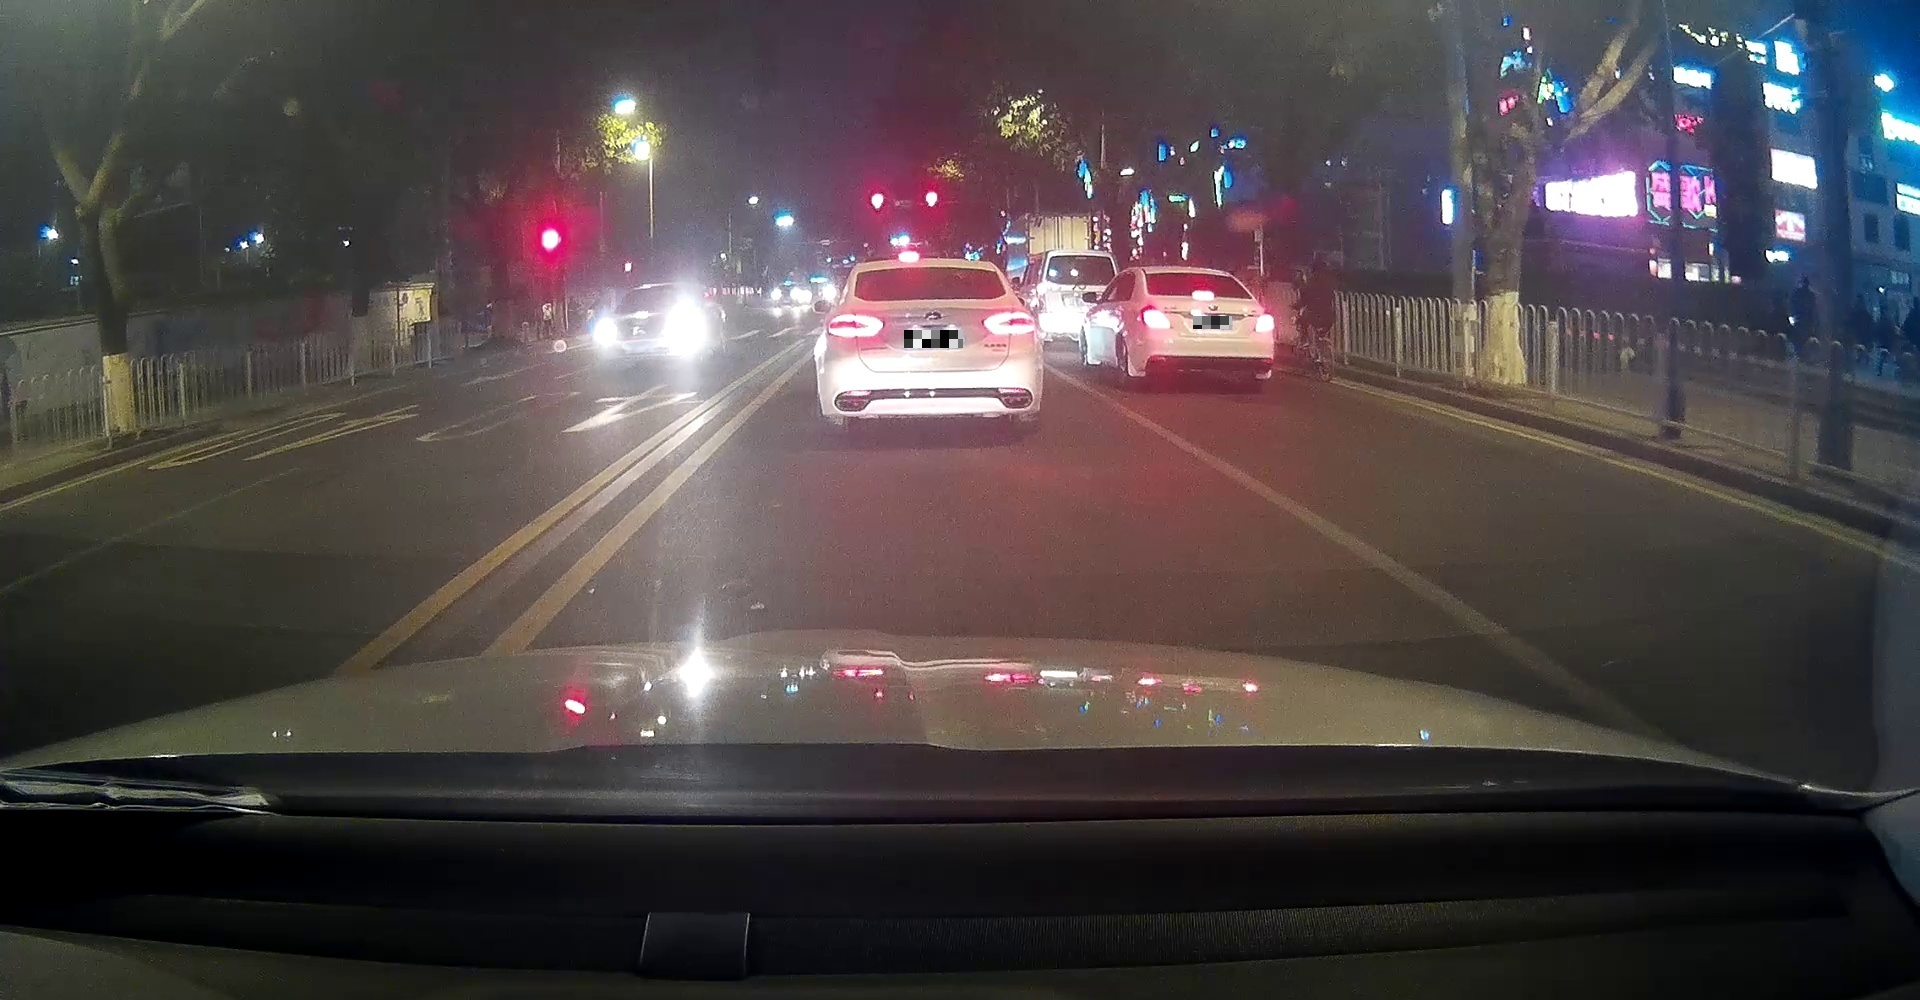L_light: (827, 313, 885, 338), (1140, 305, 1171, 329)
R_light: (982, 308, 1035, 336), (1252, 310, 1274, 332)
T_light: (916, 266, 949, 274), (1192, 291, 1215, 301)
night-brake: (1139, 266, 1275, 393)
night-no: (811, 258, 1043, 437)
plate_1: (904, 330, 963, 348)
plate_2: (1192, 316, 1232, 329)
